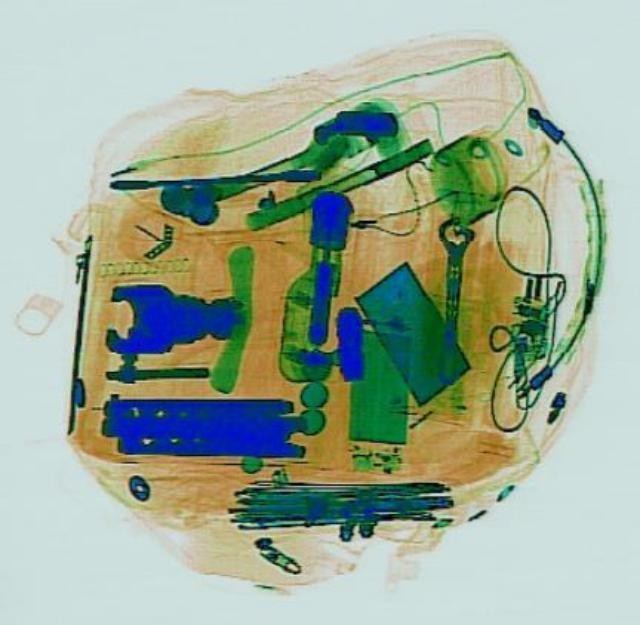Wrench: (425, 213, 473, 382)
